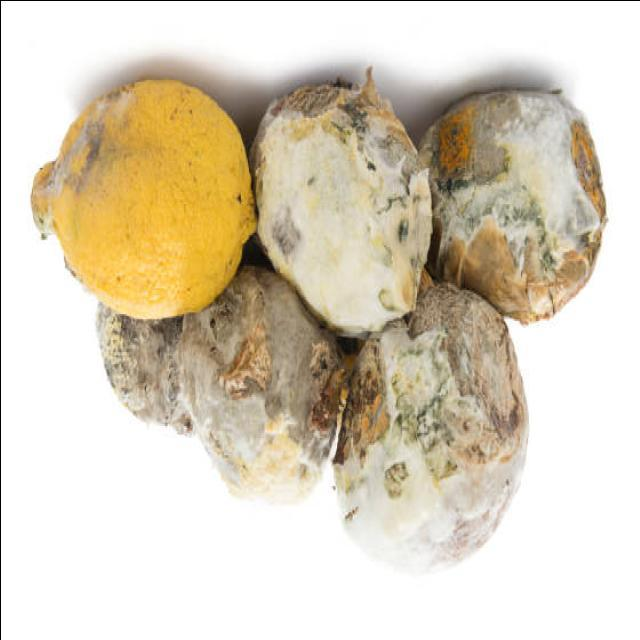Rotten: (330, 279, 532, 568), (248, 73, 430, 332)
